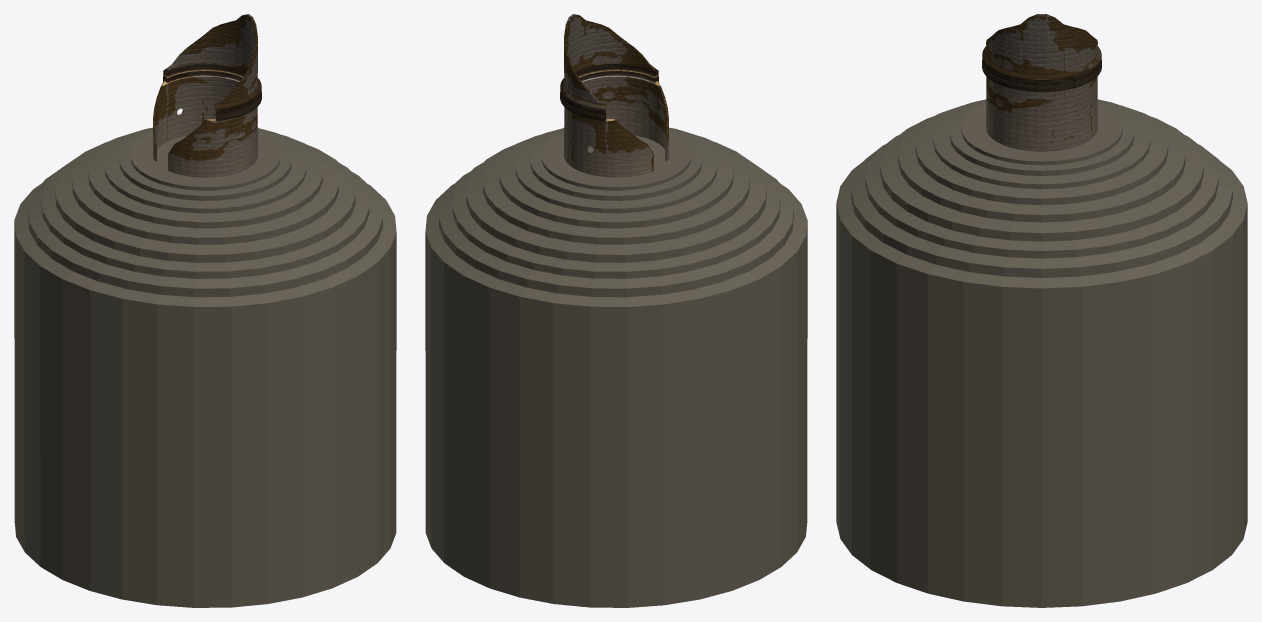
Rendered from assetA.glb.
The picture shows the model from 3 angles, left to right: view 1: azimuth 30°, elevation 25°; view 2: azimuth 150°, elevation 25°; view 3: azimuth 270°, elevation 25°; orthographic projection. The views are drawn at different scales.
Parts seen in each view (by area): view 1: Cylinder; view 2: Cylinder; view 3: Cylinder.
Part boxes in pixels (<box>): Cylinder: <box>14,14,396,607</box>; Cylinder: <box>425,14,807,607</box>; Cylinder: <box>836,14,1247,607</box>.
Bounding box in the file's own units: 26.35 × 38.14 × 26.78.
Materials: 2 (1 with a texture image).
